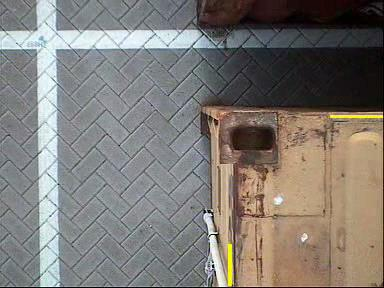groundmarker_2: (199, 131, 234, 191)
